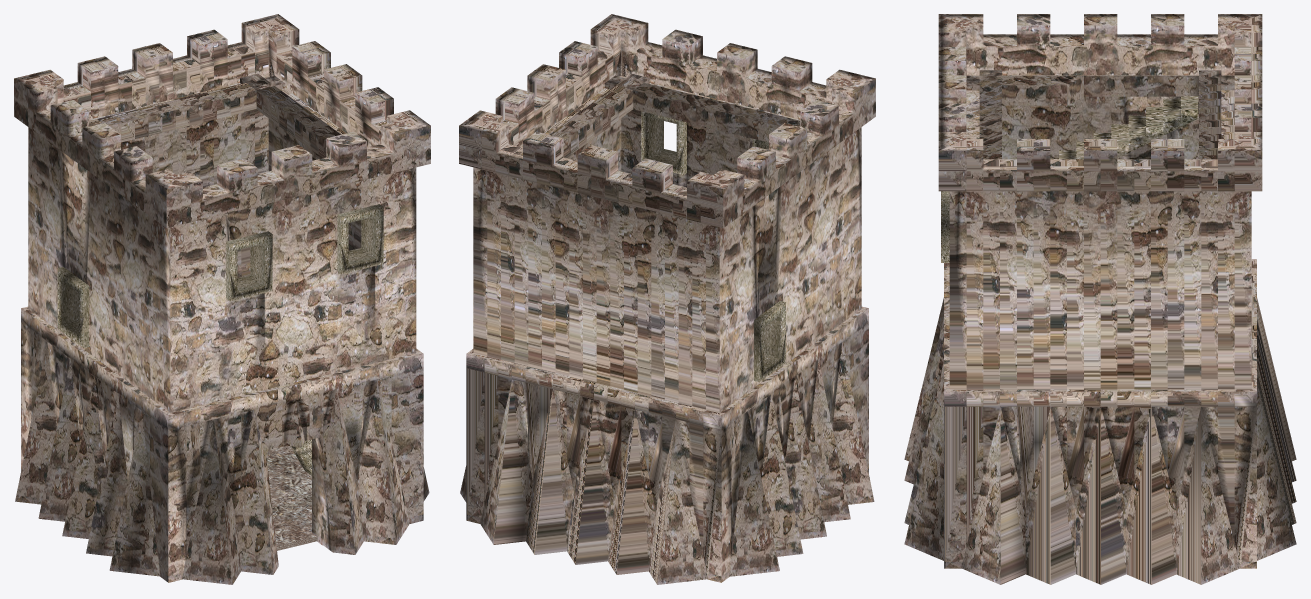
The model's file is Little Tower.obj.
3 views of the same model, side by side, from view 1: azimuth 30°, elevation 25°; view 2: azimuth 150°, elevation 25°; view 3: azimuth 270°, elevation 25° (orthographic). The views are drawn at different scales.
Visible parts, largest first — view 1: tower1, tower4, tower3, tower2, base, window3, window2, window1; view 2: tower3, tower4, tower1, tower2, window1, window3; view 3: tower2, tower4, tower3, tower1, stair4, window3.
Boxes of the visible parts, x1,y1,x2,y2 form: tower1: [166, 121, 430, 584]; tower4: [14, 78, 175, 582]; tower3: [14, 14, 285, 470]; tower2: [240, 14, 430, 501]; base: [267, 445, 317, 550]; window3: [337, 204, 383, 274]; window2: [226, 231, 272, 301]; window1: [57, 267, 89, 347]; tower3: [459, 121, 723, 584]; tower4: [714, 78, 875, 582]; tower1: [604, 14, 875, 473]; tower2: [459, 14, 649, 502]; window1: [754, 301, 785, 382]; window3: [641, 111, 686, 175]; tower2: [938, 139, 1262, 584]; tower4: [939, 14, 1261, 261]; tower3: [1199, 14, 1296, 560]; tower1: [904, 14, 1001, 568]; stair4: [1050, 96, 1198, 159]; window3: [941, 191, 949, 262].
Bounding box in the file's own units: 351 × 421 × 351.
3 materials, 3 textured.
